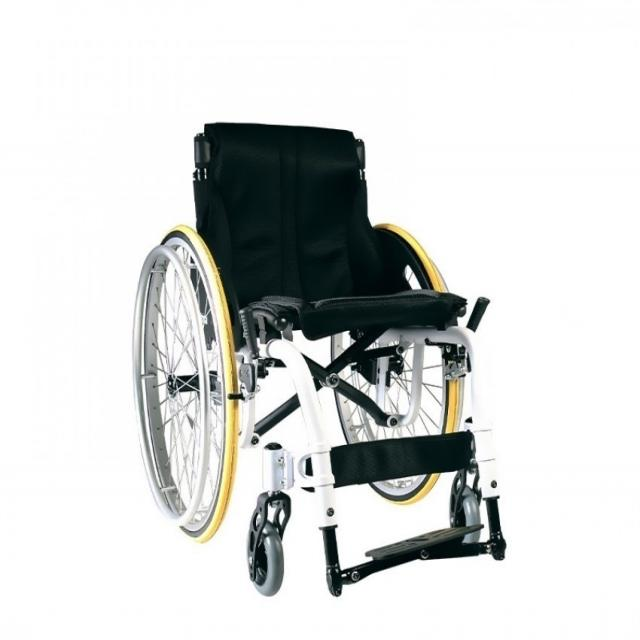wheelchair: (121, 111, 549, 608)
